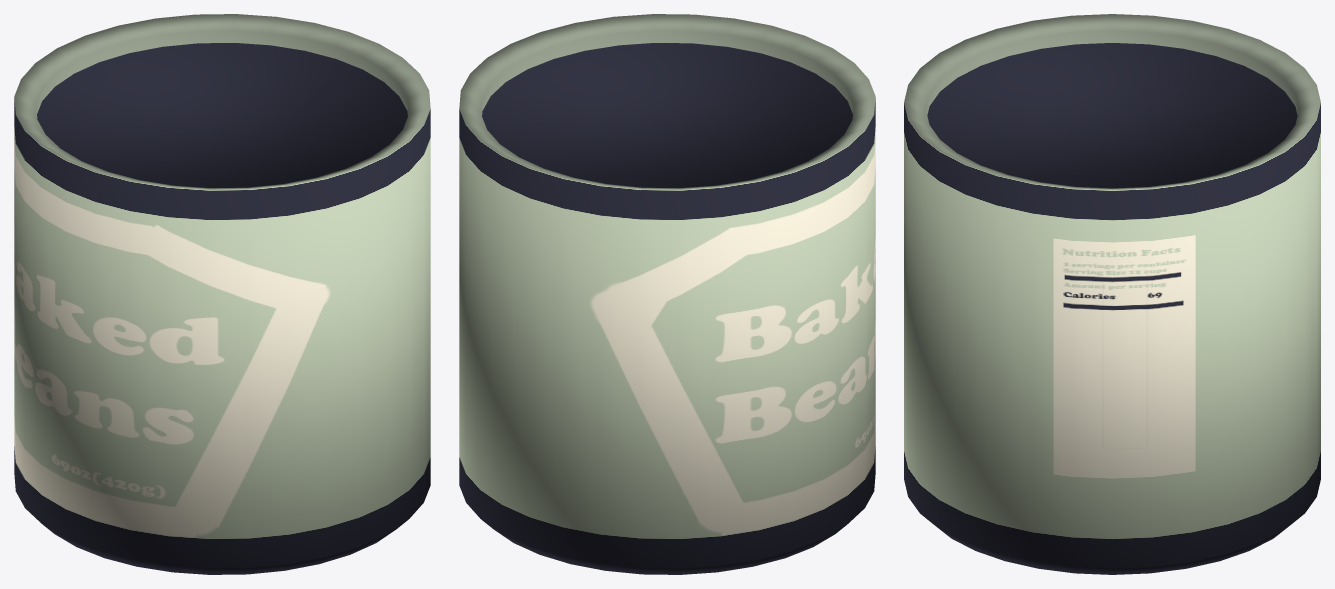
The model's file is Beans.fbx.
The picture shows the model from 3 angles, left to right: view 1: azimuth 30°, elevation 25°; view 2: azimuth 150°, elevation 25°; view 3: azimuth 270°, elevation 25°; orthographic projection.
Visible parts, largest first — view 1: Cylinder; view 2: Cylinder; view 3: Cylinder.
Part boxes in pixels (left/top/right/bottom): Cylinder: left=14, top=14, right=430, bottom=574; Cylinder: left=459, top=14, right=875, bottom=574; Cylinder: left=904, top=14, right=1320, bottom=574.
Size of the model in its own units: 50 by 51.77 by 50.
